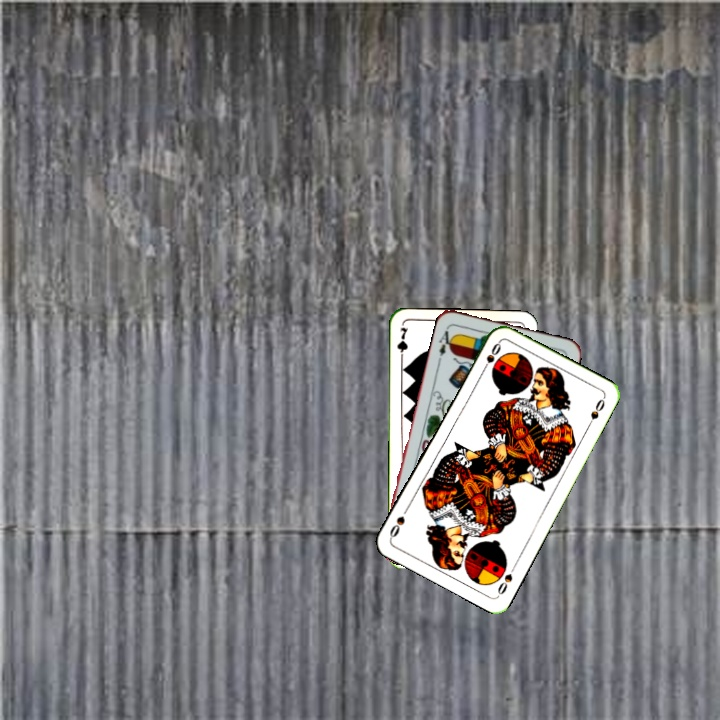EA: (434, 323, 457, 363)
G7: (393, 323, 411, 364)
SO: (477, 339, 504, 376), (493, 561, 518, 598)
